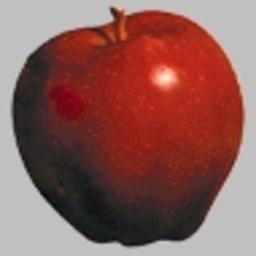apple: (12, 5, 244, 250)
